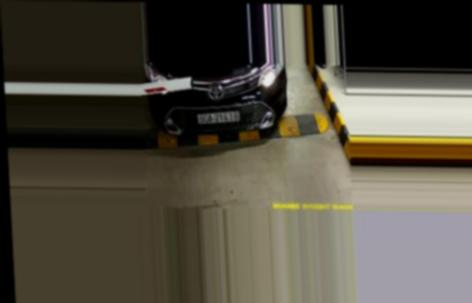License_Plate: (195, 108, 242, 124)
